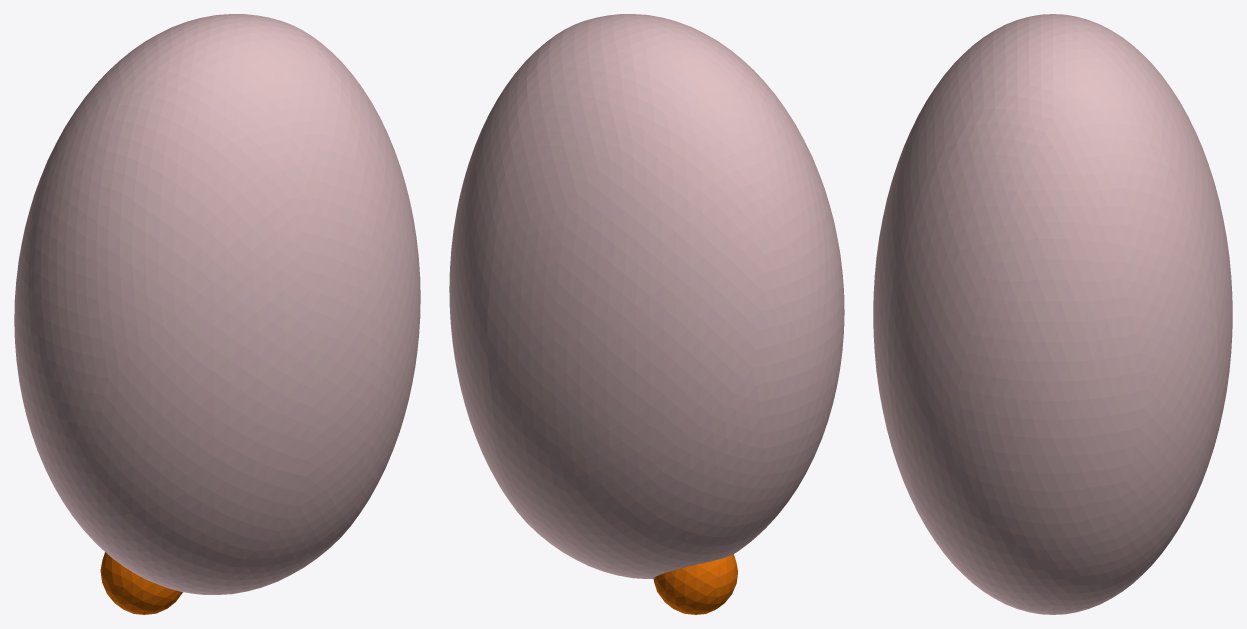
The picture shows the model from 3 angles, left to right: view 1: azimuth 30°, elevation 25°; view 2: azimuth 150°, elevation 25°; view 3: azimuth 270°, elevation 25°; orthographic projection. The views are drawn at different scales.
Parts seen in each view (by area): view 1: world; view 2: world; view 3: world.
Part boxes in pixels (x1,y1,x2,y2): world: (14, 14, 420, 614); world: (449, 14, 844, 614); world: (873, 14, 1232, 614).
Size of the model in its own units: 0.955 by 1.45 by 0.8.
